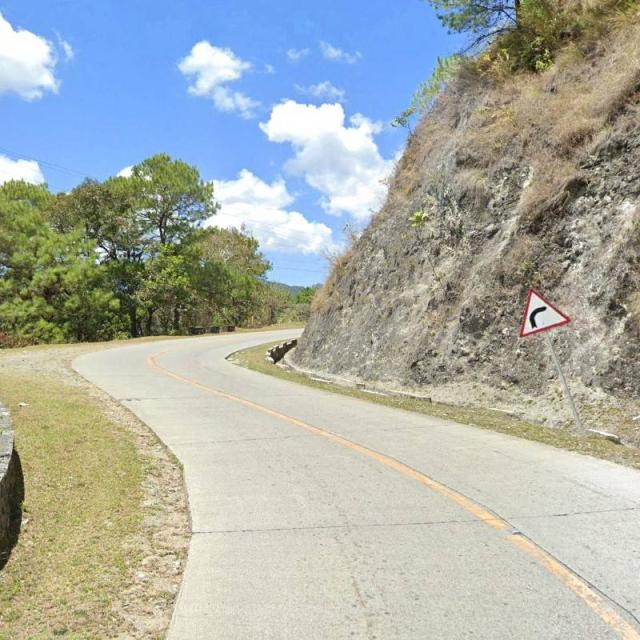warn_right_curve: (519, 288, 570, 338)
